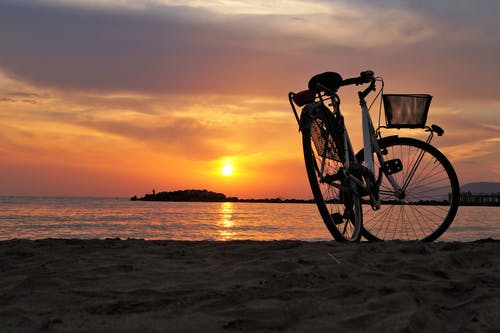bicycle: (285, 67, 463, 251)
